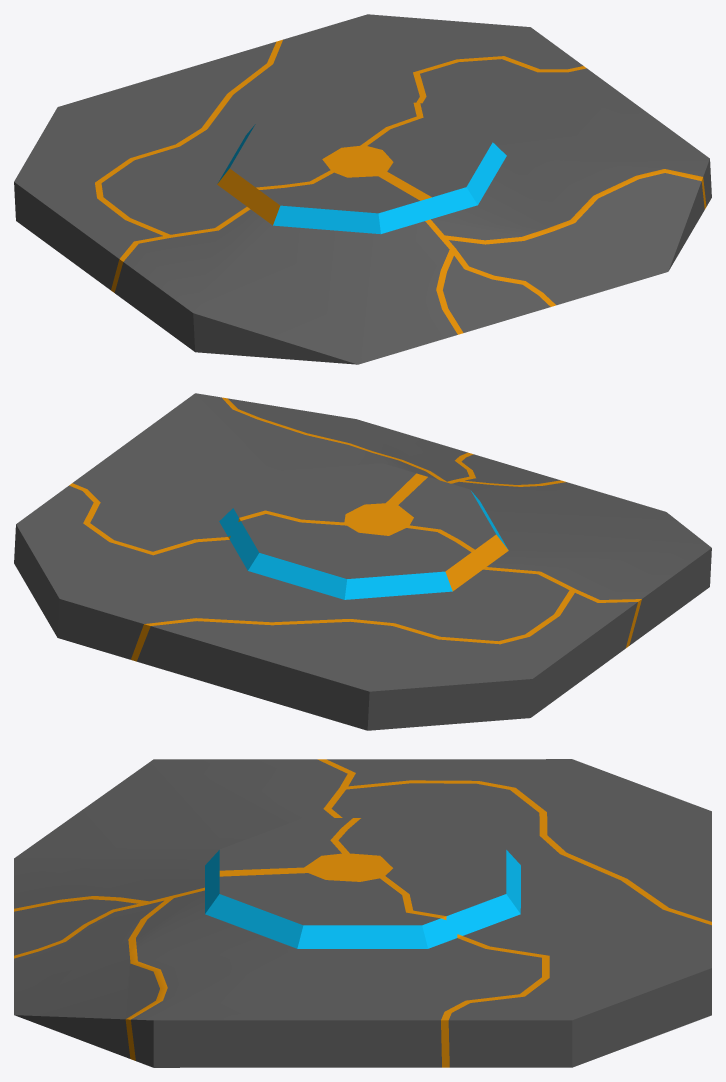
Rendered from Btn_Volcan.fbx.
3 renders of one model, top to bottom at view 1: azimuth 30°, elevation 25°; view 2: azimuth 150°, elevation 25°; view 3: azimuth 270°, elevation 25°, orthographic. The views are drawn at different scales.
Visible parts, largest first — view 1: polySurface15; view 2: polySurface15; view 3: polySurface15.
Boxes of the visible parts, <box> form: polySurface15: <box>14,14,711,364</box>; polySurface15: <box>14,393,711,730</box>; polySurface15: <box>14,759,711,1067</box>.
Size of the model in its own units: 0.2363 by 0.0326 by 0.2358.
